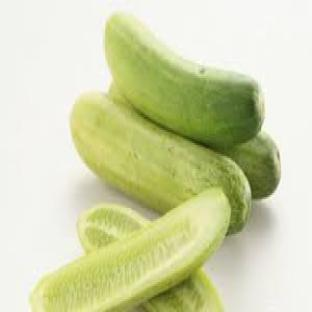Cucumber: (71, 91, 250, 233), (32, 188, 230, 311), (105, 13, 264, 146), (218, 132, 280, 198), (143, 270, 223, 311)
